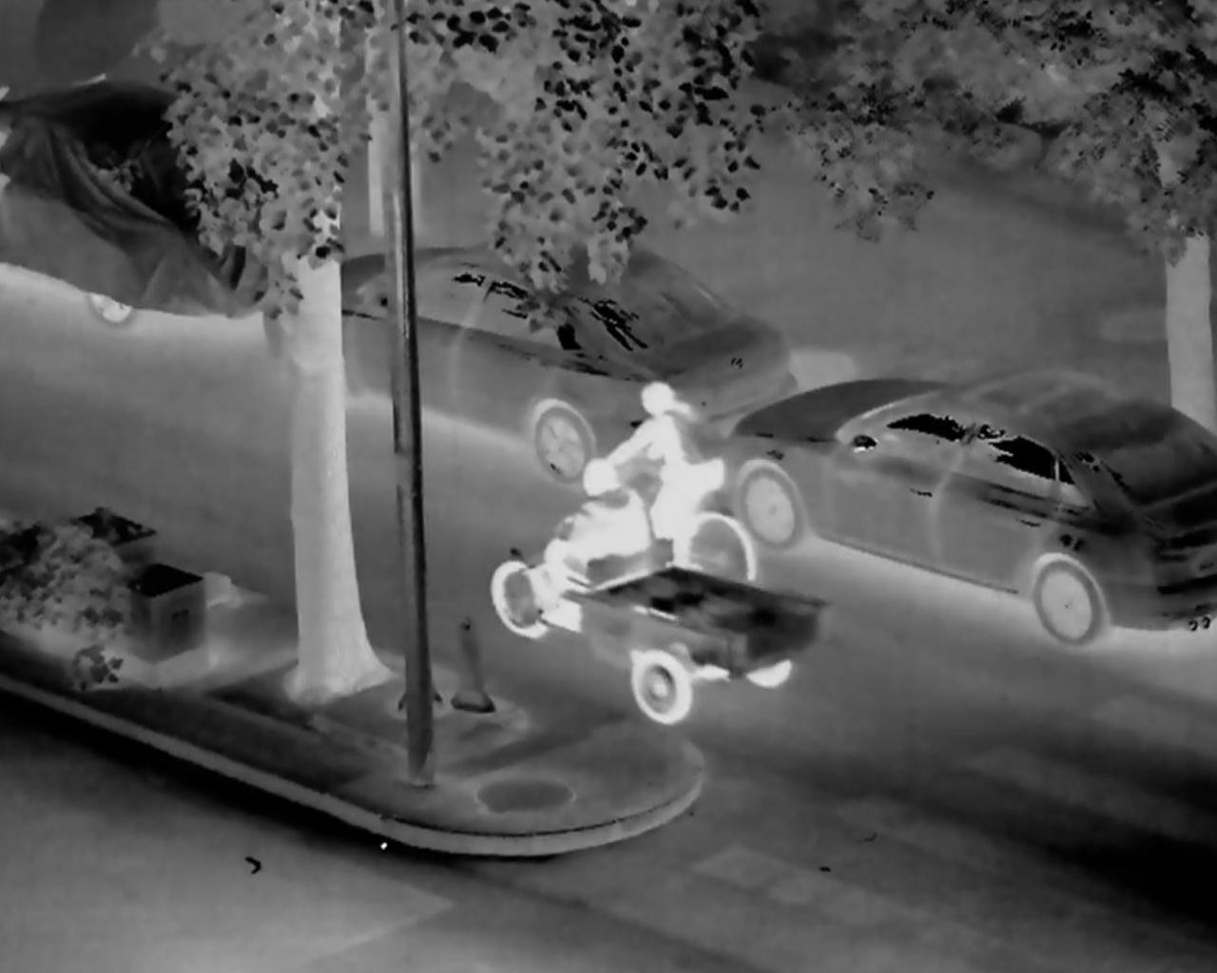person: (602, 370, 746, 594), (547, 450, 637, 642)
